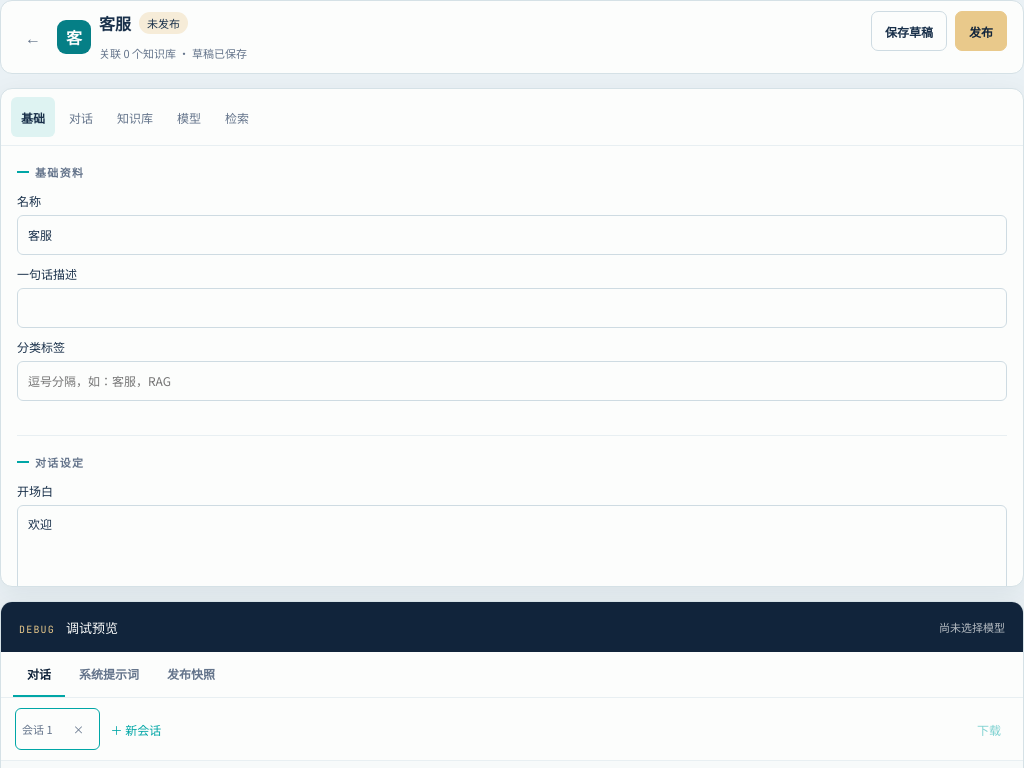
Test case: Agent workbench › reports manual save failures and allows retry instead of silently returning
Click the button with test id "save-agent" at (909, 31), box x1=871 y1=11 x2=947 y2=51
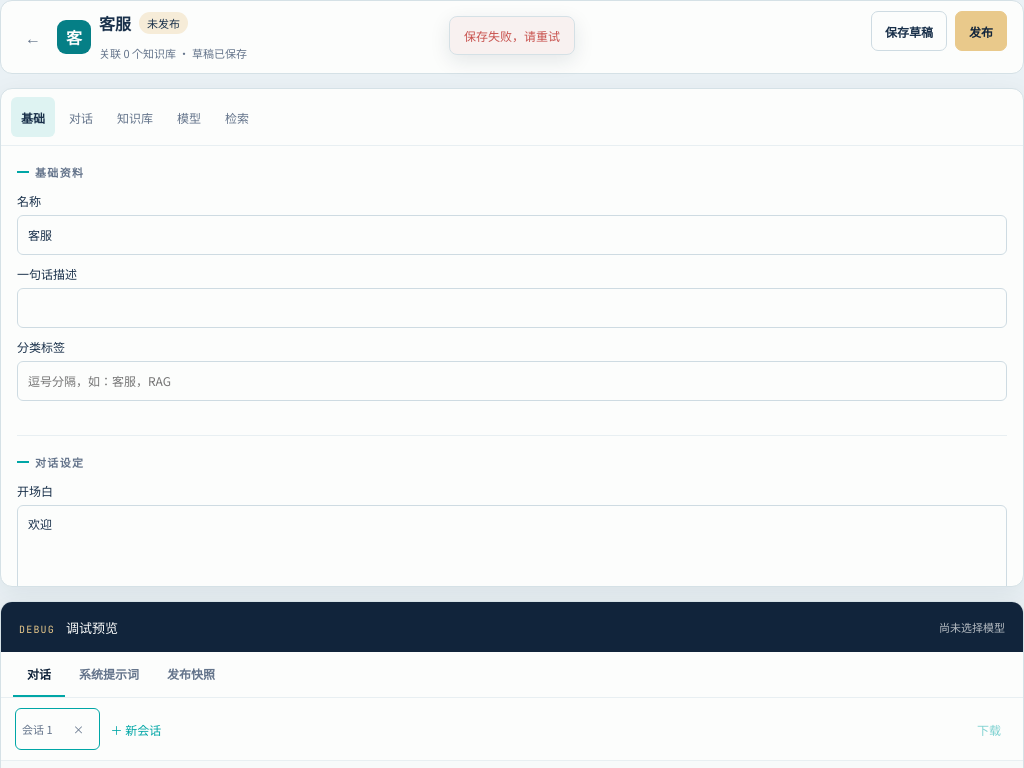
Expected: the message "保存失败，请重试" is shown, x1=449 y1=16 x2=575 y2=55
Click the button with test id "save-agent" at (909, 31), box x1=871 y1=11 x2=947 y2=51
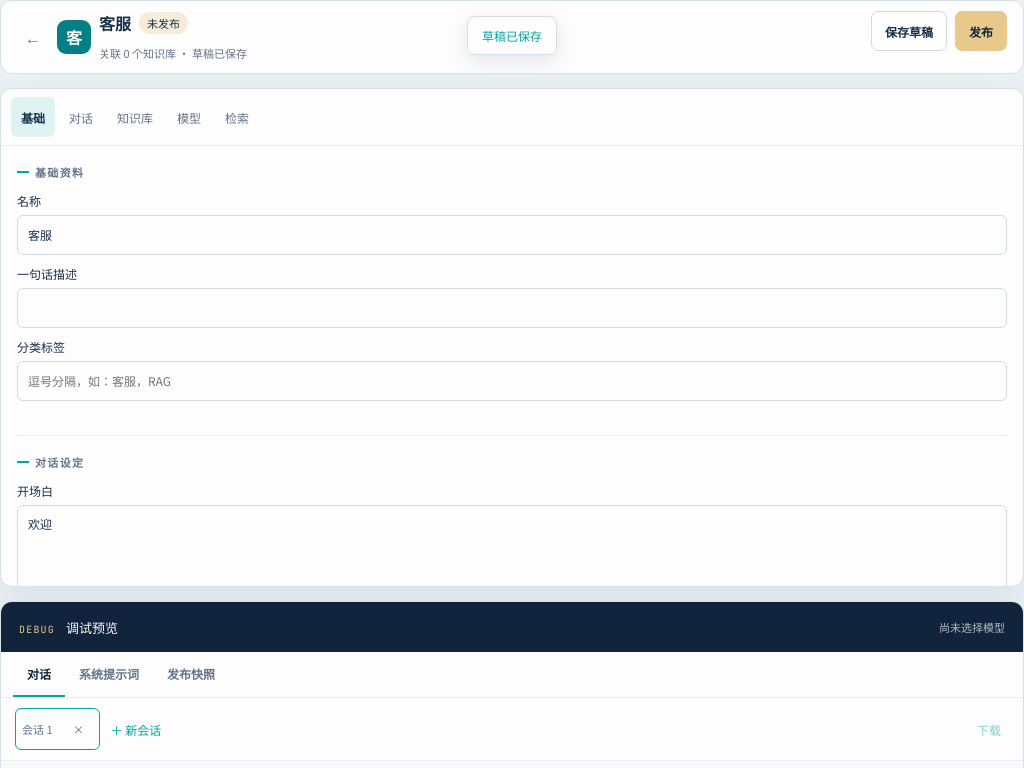
Expected: the message "草稿已保存" is shown, x1=467 y1=16 x2=557 y2=55
